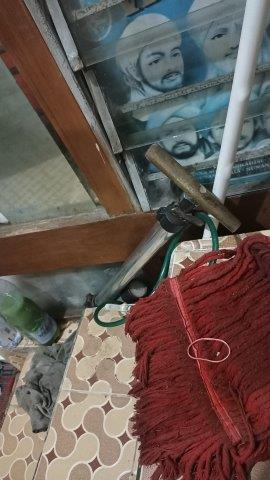karet: (187, 337, 231, 363)
